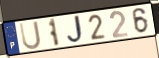1: (47, 17, 61, 48)
2: (109, 10, 131, 40), (87, 14, 108, 42)
6: (131, 7, 150, 35)
J: (66, 14, 87, 45)
U: (18, 20, 43, 52)
